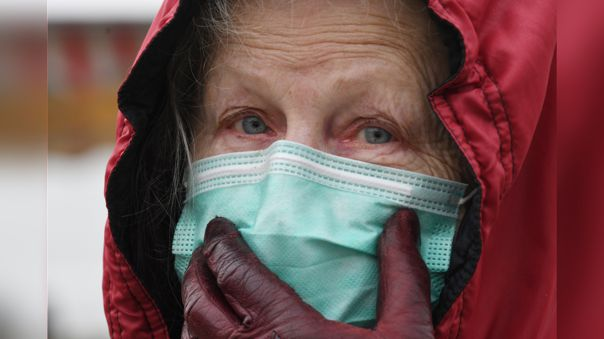with_mask: (144, 1, 556, 339)
